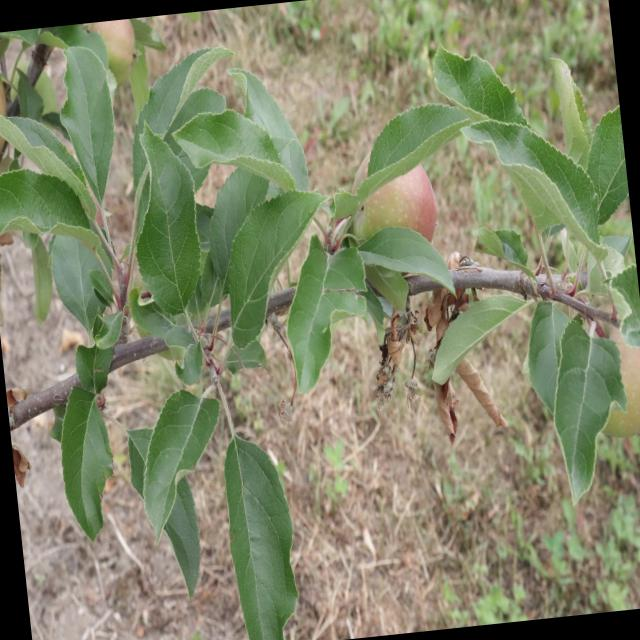-FireBlight-: (422, 290, 507, 450), (364, 312, 426, 391)
